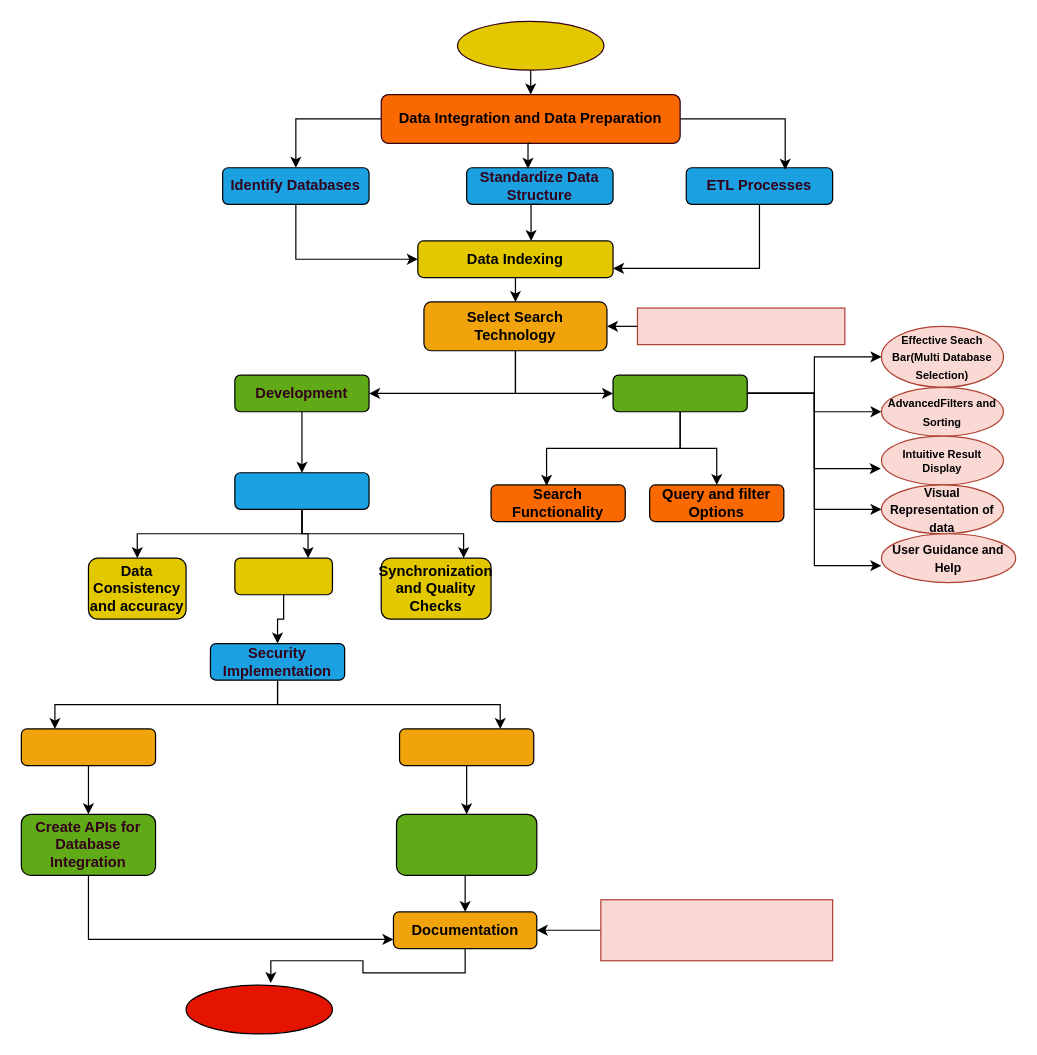
This 1037x1055 diagram has some shape labels left out. Each missing label, with the centre of its shape:
Administrator Documentation User Documentation: the point at 716,930
API Integration: the point at 88,747
Creating Indexing Algorithm: the point at 740,326
Data Backup & Recovery: the point at 466,747
Data Validation: the point at 283,576
End: the point at 258,1009
Implement Data Backup Strategy: the point at 466,844
Performance Optimization: the point at 301,490
Start: the point at 530,45
User Interface Design: the point at 679,393
